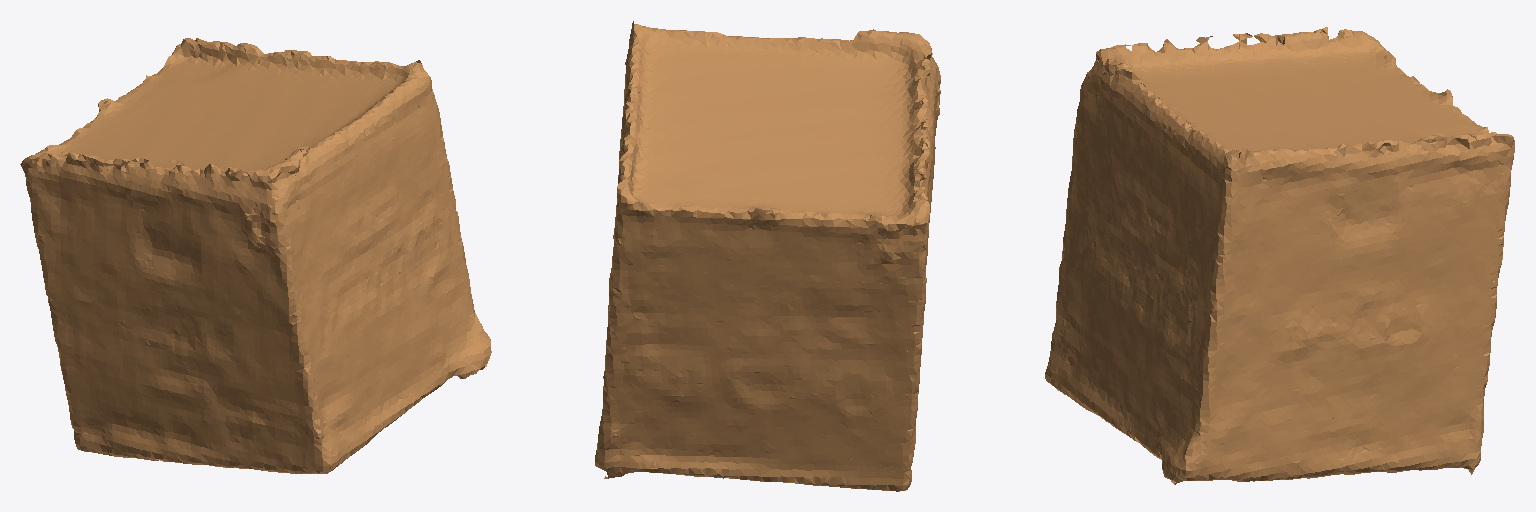
The robot description file, URDF, robot "largebox":
<?xml version="1.0" ?>
<robot name="largebox">
   <material name="largebox_color">
      <color rgba="0.8 0.6 0.4 0.5"/>
   </material>
   
   <link name="largebox_link">
      <inertial>
         <origin rpy="0 0 0" xyz="0 0 0"/>
         <mass value="0.1"/>
         <inertia ixx="0.1" ixy="0" ixz="0" iyy="0.1" iyz="0" izz="0.1"/>
      </inertial>
      
      <visual>
         <origin rpy="0 0 0" xyz="0 0 0"/>
         <geometry>
            <mesh filename="largebox.obj" scale="1 1 1"/>
         </geometry>
         <material name="largebox_color"/>
      </visual>
      
      <collision name="largebox_collision">
         <origin rpy="0 0 0" xyz="0 0 0"/>
         <geometry>
            <mesh filename="largebox.obj" scale="1 1 1"/>
         </geometry>
      </collision>
   </link>
</robot> 

--- Facts derived from the render (not from the file) ---
Views: 3 orthographic renders of the robot side by side, from view 1: azimuth 30°, elevation 25°; view 2: azimuth 150°, elevation 25°; view 3: azimuth 270°, elevation 25°.
Model largebox with 1 links and 0 joints (none), rooted at largebox_link, posed every joint at zero.
Visible links, largest first — view 1: largebox_link; view 2: largebox_link; view 3: largebox_link.
Link boxes in pixels (x1,y1,x2,y2): largebox_link: [20, 38, 491, 473]; largebox_link: [595, 21, 940, 491]; largebox_link: [1045, 27, 1514, 484].
Bounding box of the posed robot: 0.472 × 0.4596 × 0.4087 m (x, y, z).
Meshes: 1 distinct files referenced, 1 mesh visuals loaded (1 OBJ).
